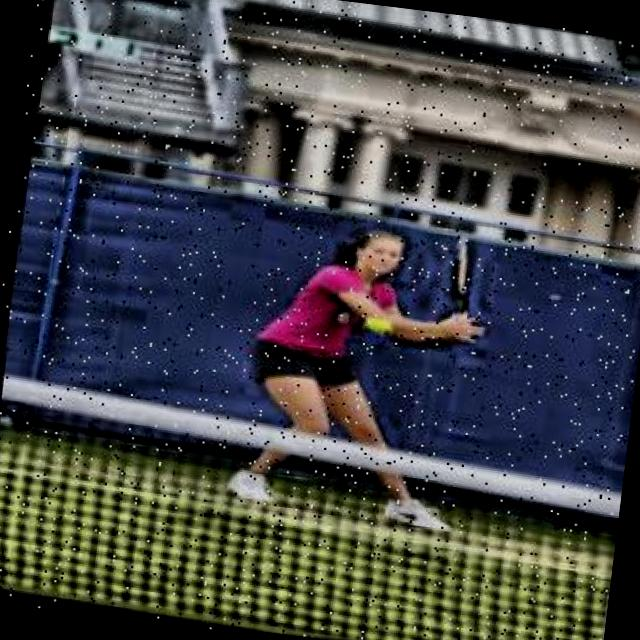tennis-ball: (358, 318, 392, 348)
